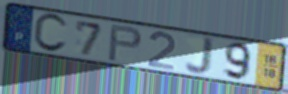2: (146, 30, 178, 72)
7: (74, 19, 104, 57)
9: (222, 41, 254, 82)
C: (32, 13, 70, 55)
J: (183, 35, 217, 77)
P: (106, 23, 144, 63)
